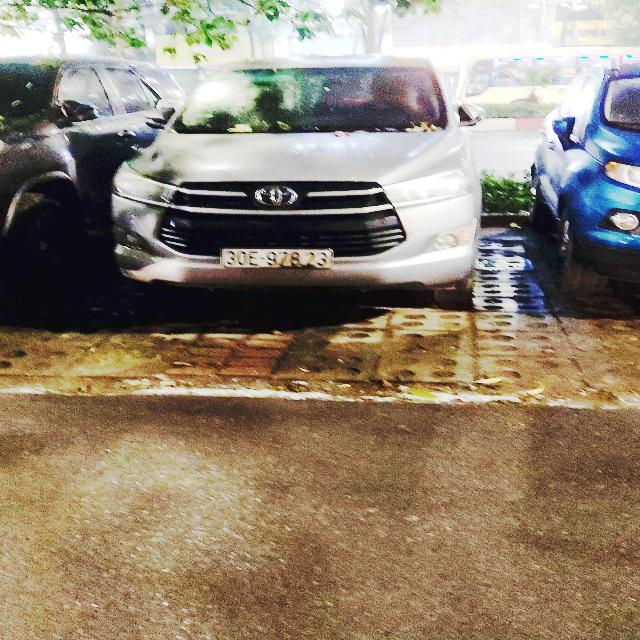license_plate: (220, 248, 335, 270)
